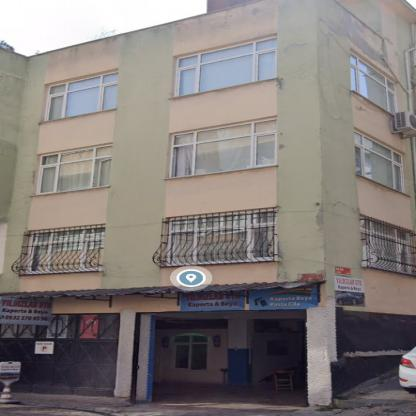window: (168, 118, 276, 176), (179, 36, 277, 96), (172, 214, 272, 262), (38, 144, 111, 192), (28, 228, 105, 271), (48, 74, 116, 118), (349, 54, 395, 113), (358, 130, 402, 189), (366, 219, 412, 270), (176, 336, 208, 370)
